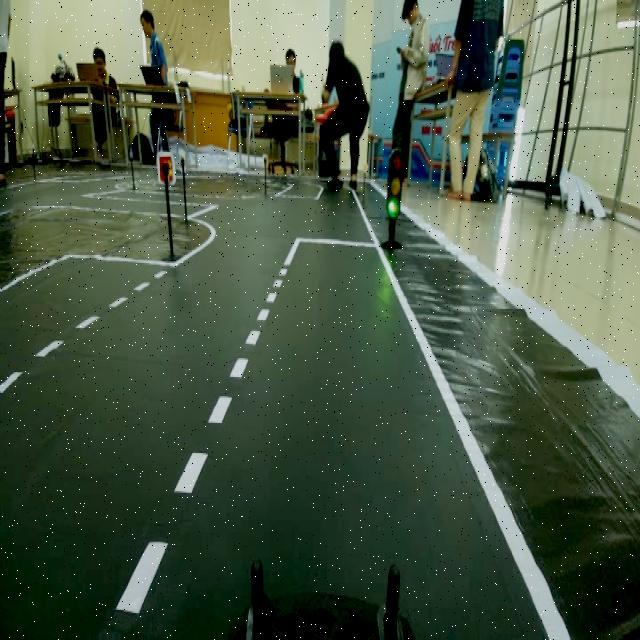trafficlight: (377, 144, 405, 254)
